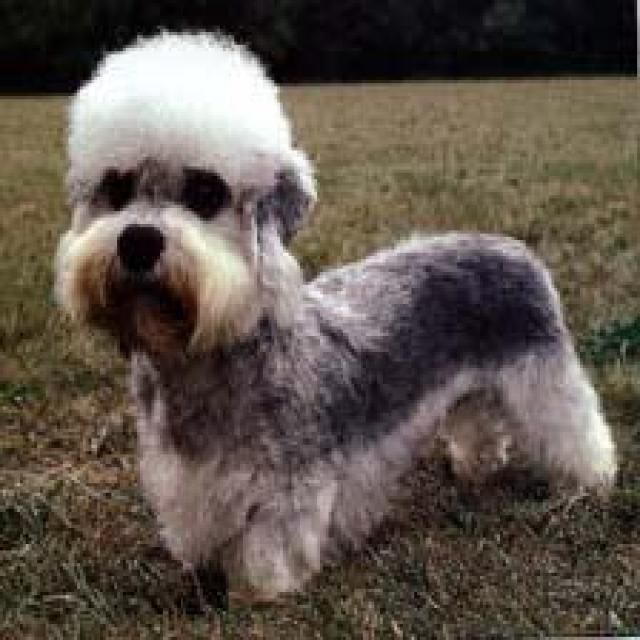dandie_dinmont: (52, 32, 617, 602)
